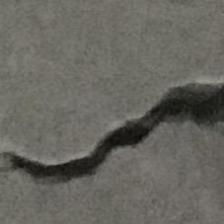Crack: (9, 74, 224, 201)
